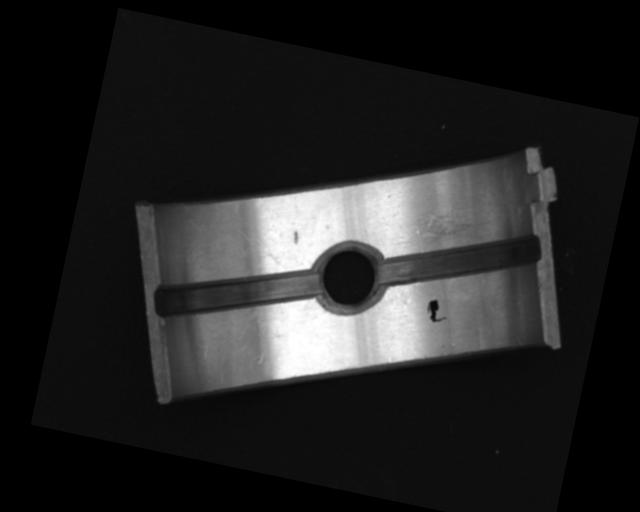blot: (423, 296, 451, 325)
bruise: (290, 229, 300, 245)
gap: (375, 206, 544, 316), (151, 239, 323, 346)
hole: (309, 241, 389, 318)
scratch: (404, 203, 493, 263)
